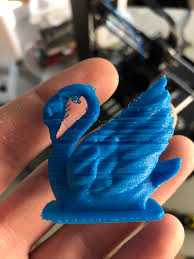fail: (36, 208, 169, 228), (121, 91, 173, 117), (64, 94, 88, 118)
